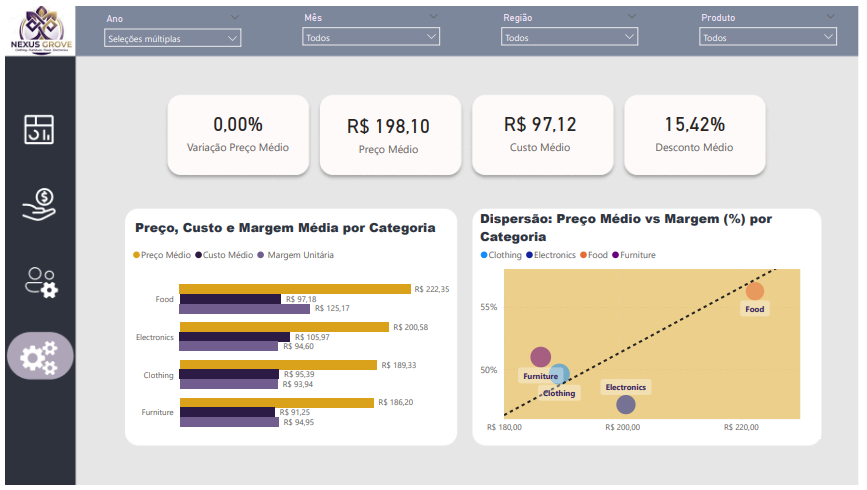

Layout of this report page (visuals, bound fields, positions):
{"tool":"powerbi","page":{"name":"Eficiencia","canvas":[1280,720],"ordinal":3},"visuals":[{"type":"card","fields":{"Values":["Medidas.07 Preço Médio"]},"box":[461.4,145.7,227.1,88.6],"z":0},{"type":"card","fields":{"Values":["Medidas.08 Custo Médio"]},"box":[688.6,142.9,227.1,88.6],"z":1000},{"type":"card","fields":{"Values":["Medidas.09 Desconto Médio"]},"box":[920,142.9,227.1,88.6],"z":2000},{"type":"clusteredBarChart","fields":{"Category":["vendas.Product_Category"],"Y":["Medidas.07 Preço Médio","Medidas.08 Custo Médio","Medidas.17 Margem Unitária"]},"box":[185.7,352.9,485.7,308.6],"z":3000},{"type":"scatterChart","fields":{"Category":["vendas.Product_Category"],"Y":["Medidas.05 Margem (%)"],"Size":["Medidas.06 Quantidade Total"],"X":["Medidas.07 Preço Médio"],"Series":["vendas.Product_Category"]},"box":[707.1,352.9,515.7,297.1],"z":4000},{"type":"textbox","box":[190,312.9,481.4,40],"z":5000},{"type":"textbox","box":[707.1,300,515.7,70],"z":6000},{"type":"actionButton","box":[0,146.7,100,73.3],"z":7000},{"type":"actionButton","box":[0,260,100,73.3],"z":8000},{"type":"actionButton","box":[0,381.7,100,71.7],"z":9000},{"type":"slicer","fields":{"Values":["dCalendario.Ano"]},"box":[138.8,6,225.4,65.7],"z":10000},{"type":"slicer","fields":{"Values":["dCalendario.Nome do Mês"]},"box":[436.3,4.5,225.4,65.7],"z":11000},{"type":"slicer","fields":{"Values":["vendas.Region"]},"box":[733.8,4.5,225.4,65.7],"z":12000},{"type":"slicer","fields":{"Values":["vendas.Product_Category"]},"box":[1031.3,4.5,225.4,65.7],"z":13000},{"type":"card","fields":{"Values":["Medidas.25 Variação % Preço Médio"]},"box":[235.7,142.9,227.1,88.6],"z":14000}]}

Visuals, with their boxes on the page's 1280x720 design canvas (x1, y1, x2, y2). These are canvas units, not pixel positions in the 867x490 screenshot, which may show the page scaled, cropped or inside an application window:
card - Medidas.07 Preço Médio: box=[461, 146, 688, 234]
card - Medidas.08 Custo Médio: box=[689, 143, 916, 232]
card - Medidas.09 Desconto Médio: box=[920, 143, 1147, 232]
clusteredBarChart - vendas.Product_Category x Medidas.07 Preço Médio: box=[186, 353, 671, 662]
scatterChart - vendas.Product_Category x Medidas.05 Margem (%): box=[707, 353, 1223, 650]
textbox: box=[190, 313, 671, 353]
textbox: box=[707, 300, 1223, 370]
actionButton: box=[0, 147, 100, 220]
actionButton: box=[0, 260, 100, 333]
actionButton: box=[0, 382, 100, 453]
slicer - dCalendario.Ano: box=[139, 6, 364, 72]
slicer - dCalendario.Nome do Mês: box=[436, 4, 662, 70]
slicer - vendas.Region: box=[734, 4, 959, 70]
slicer - vendas.Product_Category: box=[1031, 4, 1257, 70]
card - Medidas.25 Variação % Preço Médio: box=[236, 143, 463, 232]
